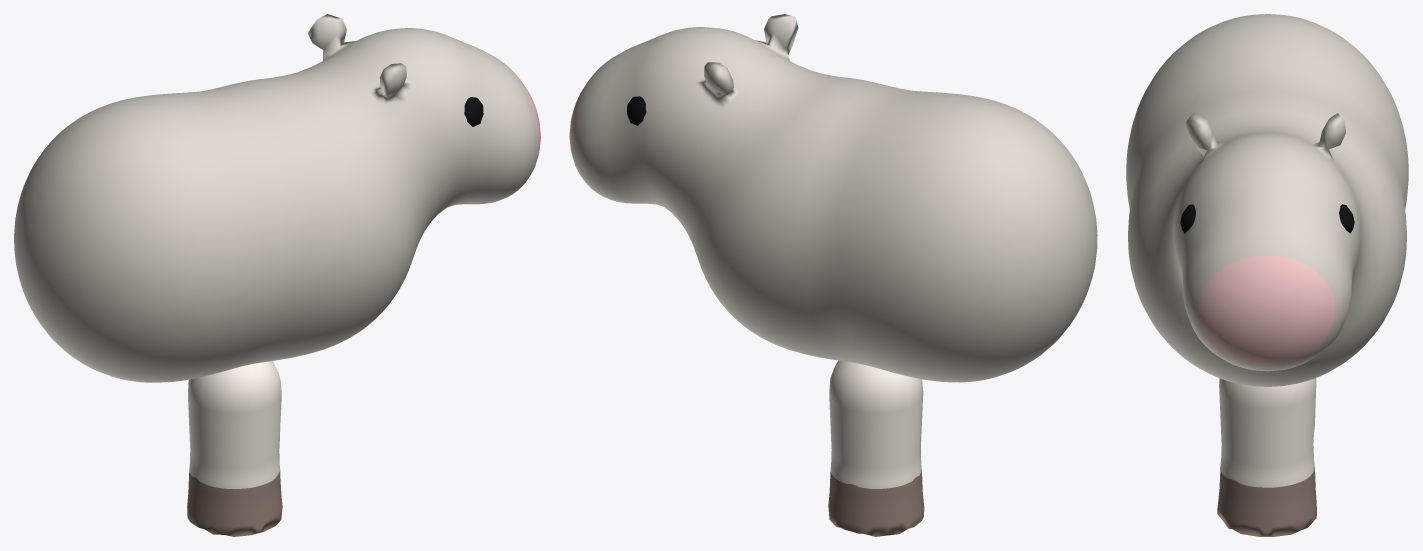
Rendered from capybara_adult.glb.
3 renders of one model, left to right at view 1: azimuth 30°, elevation 25°; view 2: azimuth 150°, elevation 25°; view 3: azimuth 270°, elevation 25°, orthographic. The views are drawn at different scales.
Parts seen in each view (by area): view 1: body, leg; view 2: body, leg; view 3: body, leg, eye.
Boxes of the visible parts, x1,y1,x2,y2 form: body: (14, 14, 540, 382); leg: (187, 361, 282, 536); body: (569, 14, 1097, 382); leg: (828, 360, 924, 536); body: (1126, 14, 1408, 386); leg: (1217, 378, 1316, 536); eye: (1180, 204, 1354, 233).
Bounding box in the file's own units: 2.3 × 1.98 × 1.09.
